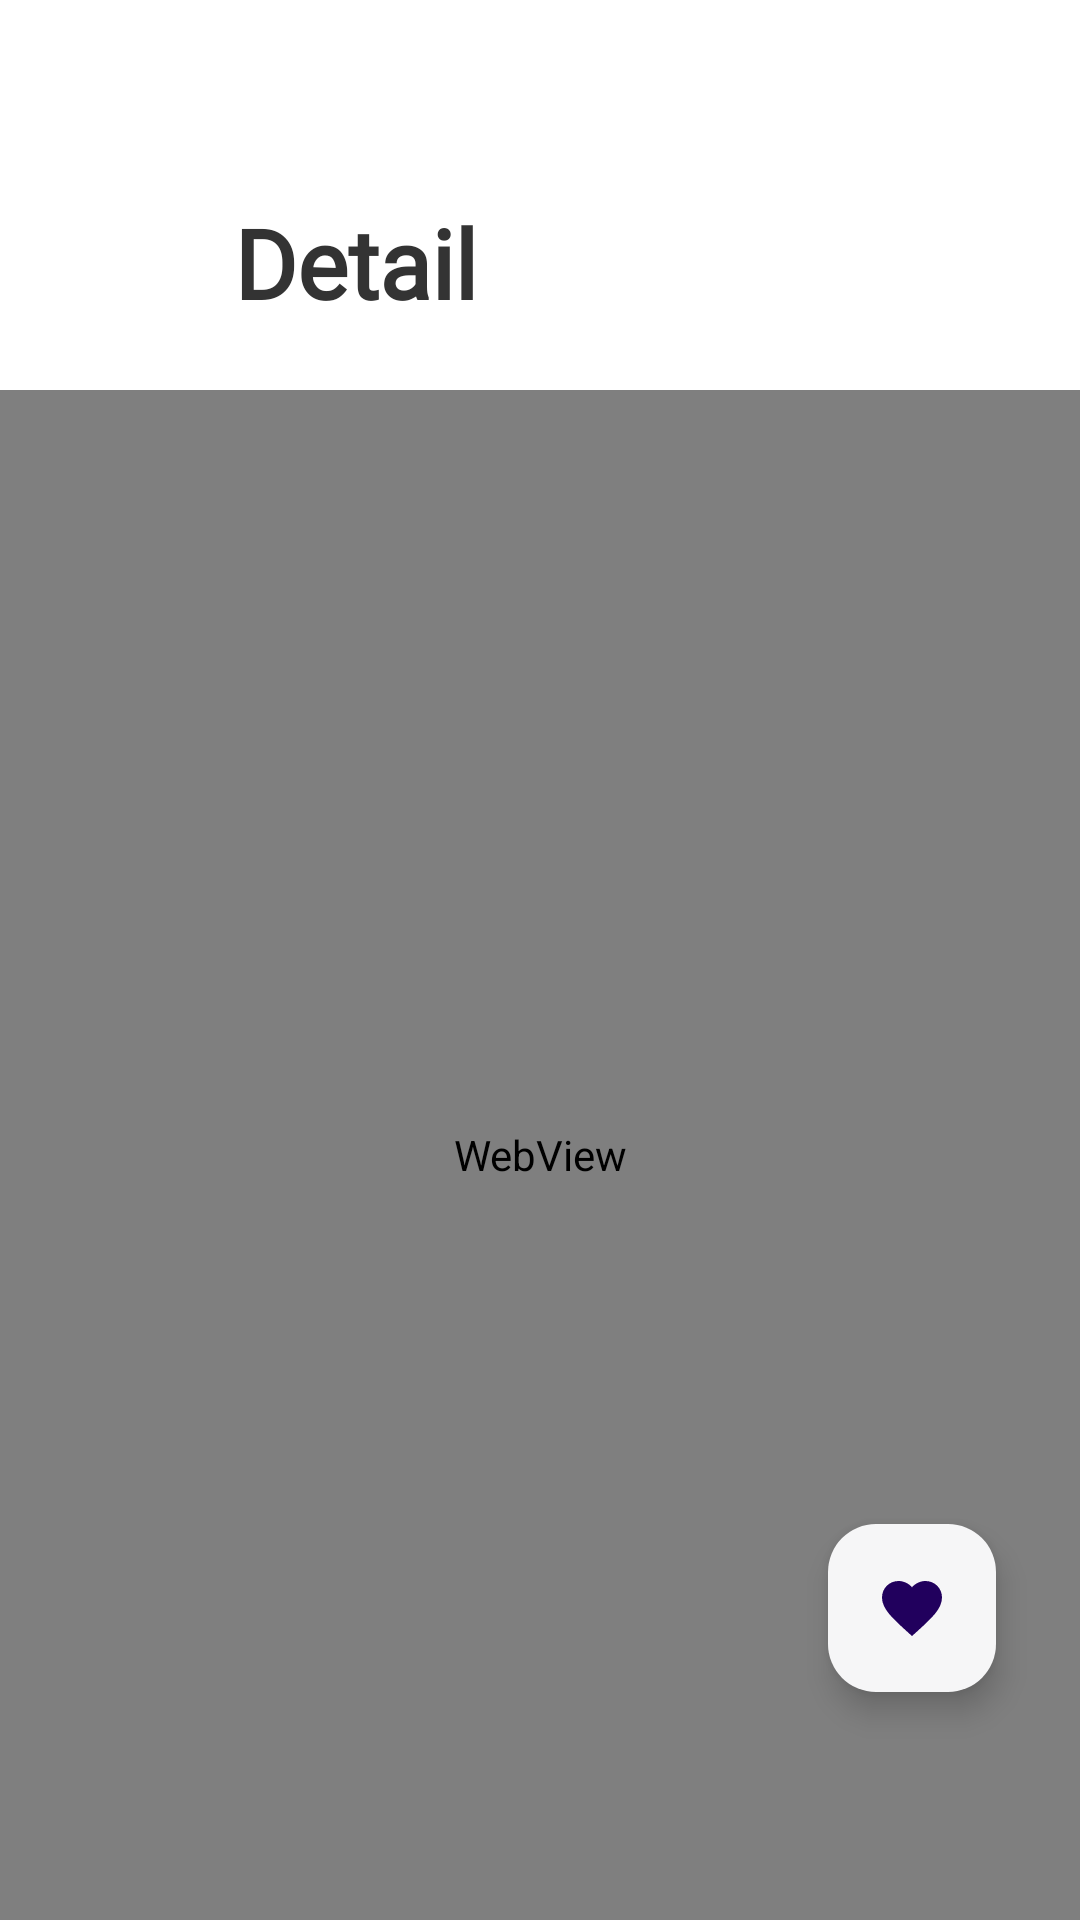

Locate icon controls on the screen. Image size 1080×1920, boxes as (x1, y1, x2, y2).
favorite: (828, 1524, 996, 1692)
